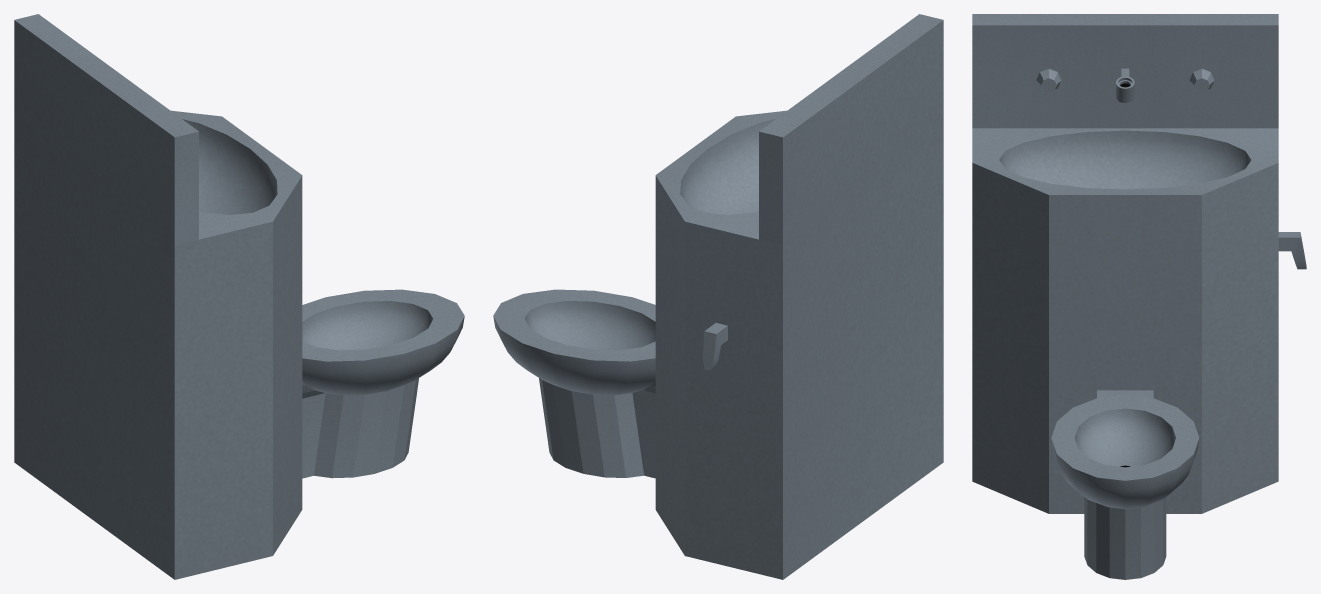
File: toilet_bowl.fbx
3 renders of one model, left to right at view 1: azimuth 30°, elevation 25°; view 2: azimuth 150°, elevation 25°; view 3: azimuth 270°, elevation 25°, orthographic. The views are drawn at different scales.
Parts seen in each view (by area): view 1: toilet_bowl; view 2: toilet_bowl; view 3: toilet_bowl.
Boxes of the visible parts, x1,y1,x2,y2 form: toilet_bowl: (14, 14, 464, 579); toilet_bowl: (493, 14, 943, 579); toilet_bowl: (972, 14, 1306, 579).
Bounding box in the file's own units: 130 × 152 × 109.
Materials: 1 (1 with a texture image).
